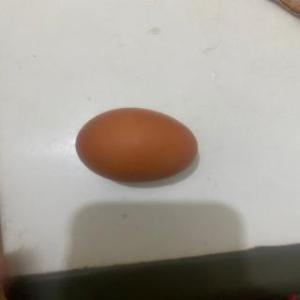egg: (74, 104, 202, 184)
